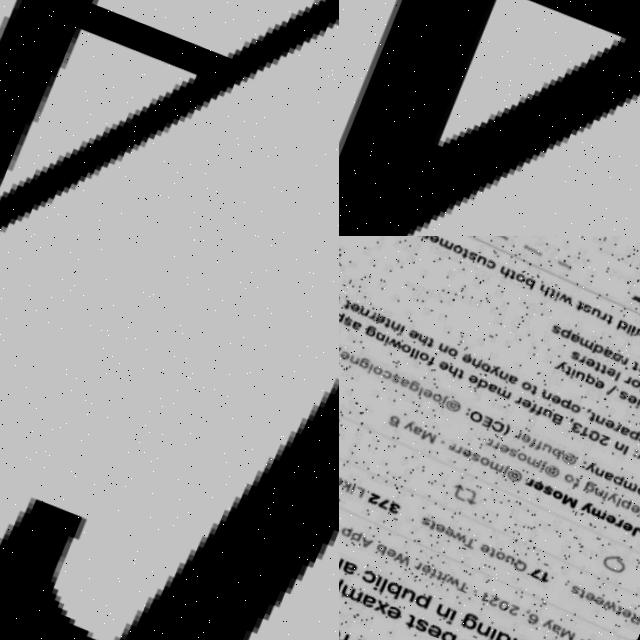0: (503, 595, 517, 608), (592, 424, 605, 437), (463, 634, 486, 640)
1: (545, 566, 556, 578), (584, 421, 594, 432), (487, 588, 496, 599)
2: (512, 599, 527, 614), (371, 488, 385, 503), (601, 428, 615, 442), (493, 591, 506, 604)
3: (391, 497, 407, 512), (573, 415, 587, 430)
6: (390, 410, 406, 426), (531, 606, 546, 622)
7: (534, 561, 549, 576), (381, 493, 395, 507)
A: (0, 0, 339, 236)
T: (0, 236, 339, 640)
